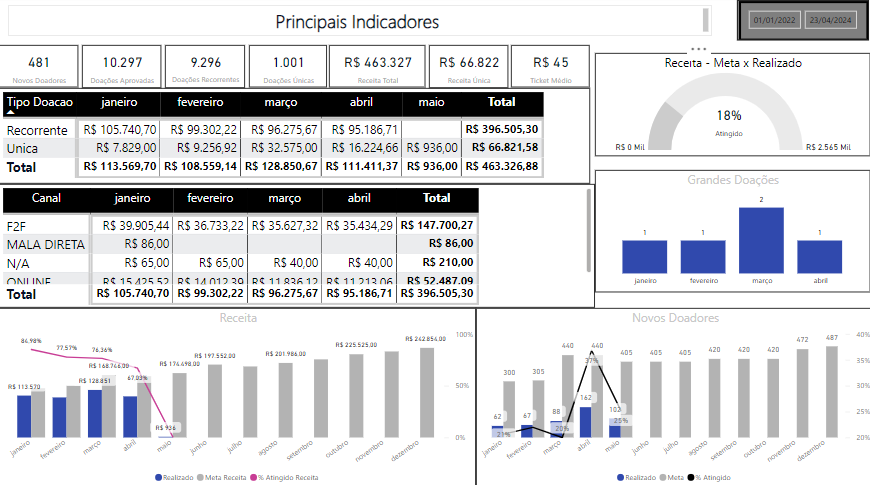

The dashboard page shown, as its layout file describes it:
{"tool":"powerbi","page":{"name":"Página1","canvas":[1280,720],"ordinal":0},"visuals":[{"type":"basicShape","box":[1079.4,6.2,193.2,59.1],"z":2000},{"type":"card","fields":{"Values":["_Medidas.Novos doadores"]},"box":[0,71.2,116,62.4],"z":4000},{"type":"slicer","fields":{"Values":["Calendario.Data"]},"box":[1084.3,12.3,183.4,46.8],"z":5000},{"type":"card","fields":{"Values":["_Medidas.Doacoes aprovadas"]},"box":[120.9,71.2,116,63.4],"z":6000},{"type":"card","fields":{"Values":["_Medidas.Doacoes aprovadas"]},"box":[242.7,71.2,117,63.4],"z":7000},{"type":"card","fields":{"Values":["_Medidas.Doacoes aprovadas"]},"box":[365.6,72.1,114.1,62.4],"z":8000},{"type":"card","fields":{"Values":["_Medidas.Receita total"]},"box":[483.5,72.1,141.4,62.4],"z":9000},{"type":"card","fields":{"Values":["_Medidas.Ticket medio"]},"box":[749.7,71.2,115,62.4],"z":10000},{"type":"gauge","title":"Receita - Meta x Realizado","fields":{"MaxValue":["_Medidas.Meta receita"],"Y":["_Medidas.Receita total"]},"box":[871.5,83.8,402.6,151.1],"z":11000},{"type":"card","fields":{"Values":["_Medidas.% Receita realizado"]},"box":[1025.4,146.1,84.9,71],"z":12000},{"type":"pivotTable","fields":{"Rows":["Report5.Tipo Doacao1"],"Values":["Sum(Report5.Valor)1"],"Columns":["Calendario.Data.Variation.Hierarquia de datas.Mês"]},"box":[0,134.5,864.7,140.4],"z":13000},{"type":"clusteredColumnChart","title":"Grandes Doações","fields":{"Y":["_Medidas.Doacoes aprovadas"],"Category":["Calendario.Data.Variation.Hierarquia de datas.Mês"]},"box":[872.5,254.4,402.6,179.4],"z":14000},{"type":"lineClusteredColumnComboChart","title":"Receita","fields":{"Y":["_Medidas.Receita total","Sum(Report10.Meta Receita)"],"Category":["Calendario.Data.Variation.Hierarquia de datas.Mês"],"Y2":["_Medidas.% Atingido Receita"]},"box":[0,456.2,698,264.2],"z":15000},{"type":"lineClusteredColumnComboChart","title":"Novos Doadores","fields":{"Y":["_Medidas.Novos doadores","_Medidas.Meta Novos doadores total"],"Y2":["_Medidas.% Atingido Novos doadores"],"Category":["Calendario.Data.Variation.Hierarquia de datas.Mês"]},"box":[698,456.2,582,264.2],"z":16000},{"type":"card","fields":{"Values":["_Medidas.Receita total"]},"box":[628.8,71.2,116,63.4],"z":17000},{"type":"pivotTable","fields":{"Columns":["Calendario.Data.Variation.Hierarquia de datas.Mês1"],"Values":["Sum(Report3.Valor)"],"Rows":["Report3.Canal"]},"box":[0,274.9,871.5,181.3],"z":18000},{"type":"textbox","box":[13.2,13.2,1030.2,45.4],"z":18001}]}

Visuals, with their boxes in screenshot pixels (x1, y1, x2, y2), scaled from the page's 1280x720 canvas onto the 870x485 screenshot:
basicShape: <region>734, 4, 865, 44</region>
card - _Medidas.Novos doadores: <region>0, 48, 79, 90</region>
slicer - Calendario.Data: <region>737, 8, 862, 40</region>
card - _Medidas.Doacoes aprovadas: <region>82, 48, 161, 91</region>
card - _Medidas.Doacoes aprovadas: <region>165, 48, 244, 91</region>
card - _Medidas.Doacoes aprovadas: <region>248, 49, 326, 91</region>
card - _Medidas.Receita total: <region>329, 49, 425, 91</region>
card - _Medidas.Ticket medio: <region>510, 48, 588, 90</region>
"Receita - Meta x Realizado" gauge: <region>592, 56, 866, 158</region>
card - _Medidas.% Receita realizado: <region>697, 98, 755, 146</region>
pivotTable - Report5.Tipo Doacao1 x Sum(Report5.Valor)1: <region>0, 91, 588, 185</region>
"Grandes Doações" clusteredColumnChart: <region>593, 171, 867, 292</region>
"Receita" lineClusteredColumnComboChart: <region>0, 307, 474, 484</region>
"Novos Doadores" lineClusteredColumnComboChart: <region>474, 307, 869, 484</region>
card - _Medidas.Receita total: <region>427, 48, 506, 91</region>
pivotTable - Calendario.Data.Variation.Hierarquia de datas.Mês1 x Sum(Report3.Valor): <region>0, 185, 592, 307</region>
textbox: <region>9, 9, 709, 39</region>
